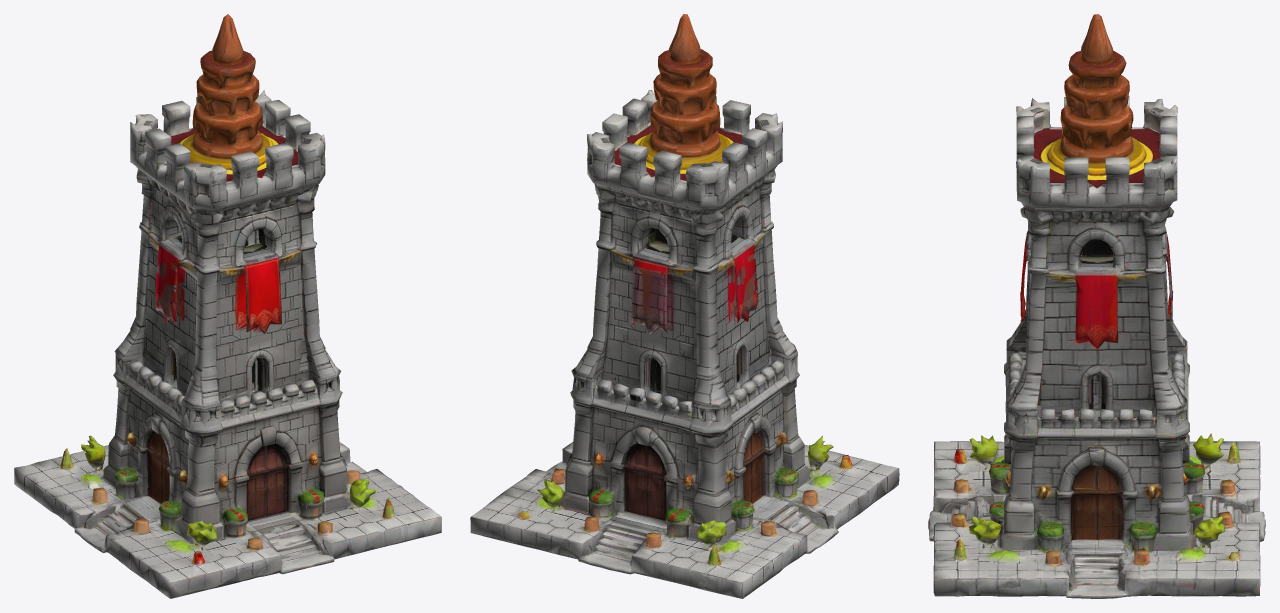
File: tower.glb
3 views of the same model, side by side, from view 1: azimuth 30°, elevation 25°; view 2: azimuth 150°, elevation 25°; view 3: azimuth 270°, elevation 25° (orthographic). The views are drawn at different scales.
Parts seen in each view (by area): view 1: Mesh_0; view 2: Mesh_0; view 3: Mesh_0.
Part boxes in pixels (box(x1,y1,x2,y2)): Mesh_0: box(14, 14, 441, 598); Mesh_0: box(470, 14, 899, 598); Mesh_0: box(928, 14, 1265, 598).
Bounding box in the file's own units: 1.14 × 1.91 × 1.14.
Materials: 1 (1 with a texture image).
